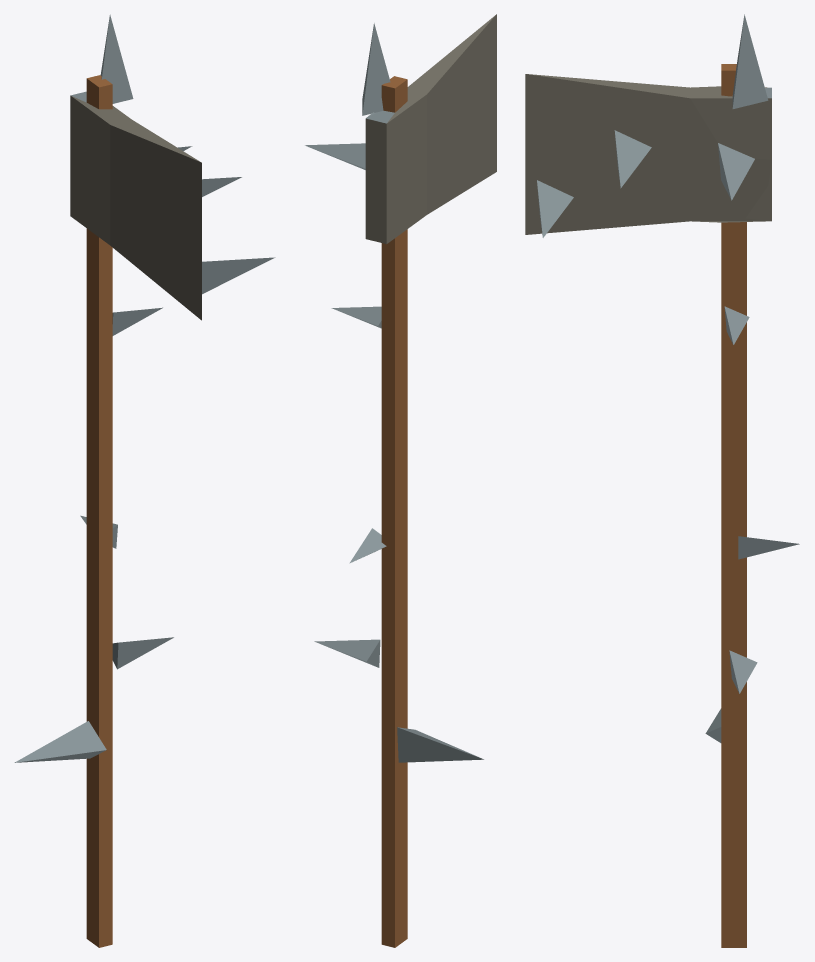
Rendered from S Axe.fbx.
The picture shows the model from 3 angles, left to right: view 1: azimuth 30°, elevation 25°; view 2: azimuth 150°, elevation 25°; view 3: azimuth 270°, elevation 25°; orthographic projection. The views are drawn at different scales.
Parts seen in each view (by area): view 1: Spiked Axe; view 2: Spiked Axe; view 3: Spiked Axe.
Part boxes in pixels (x1,y1,x2,y2): Spiked Axe: [14, 14, 275, 947]; Spiked Axe: [305, 14, 496, 947]; Spiked Axe: [525, 14, 799, 947].
Bounding box in the file's own units: 24.28 × 119 × 31.54.
